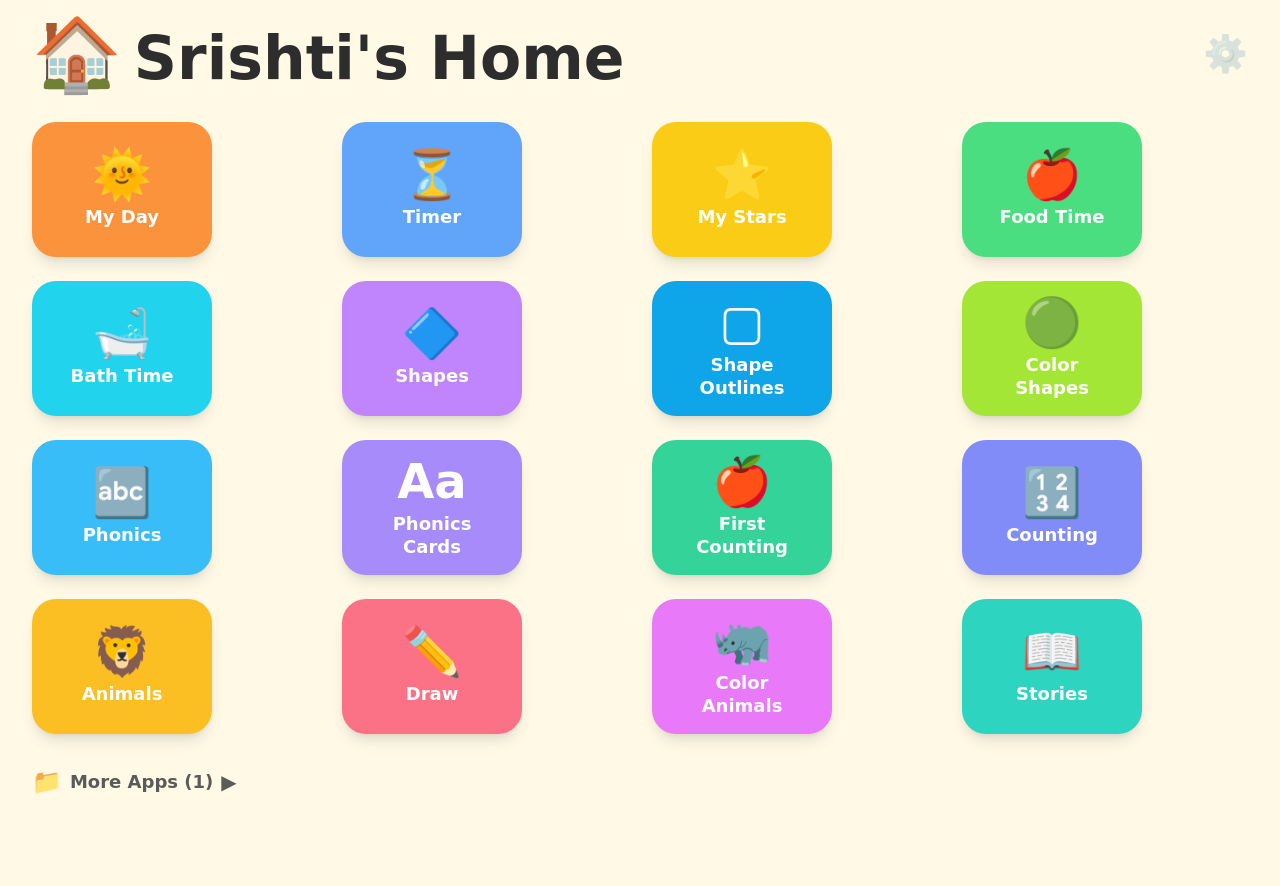
Test case: HomePage › should expand archived section when clicked
Click the text "More Apps (1)": (142,782) [70,768,213,796]
(page scrolled)
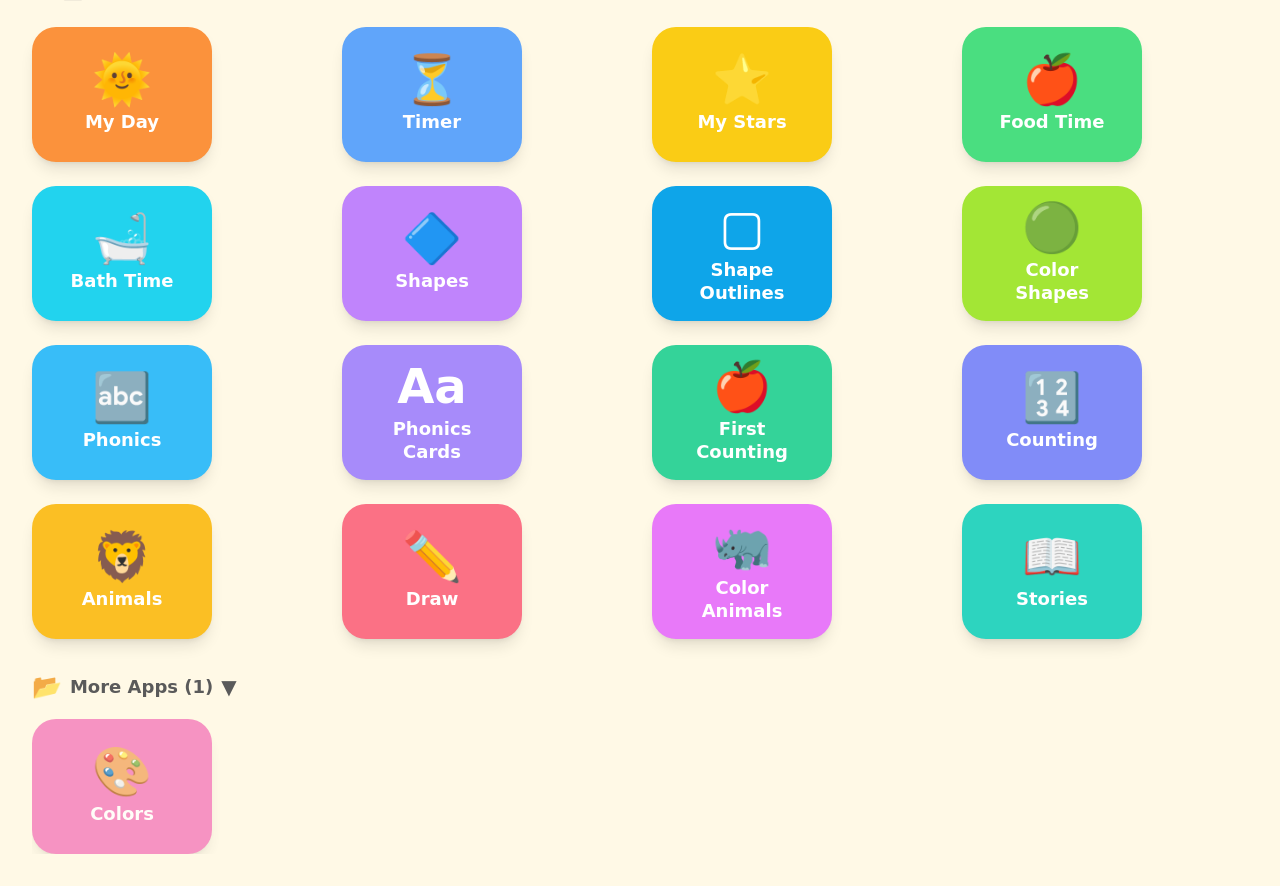
Result: the text "Colors" is shown at [90,803,154,826]
